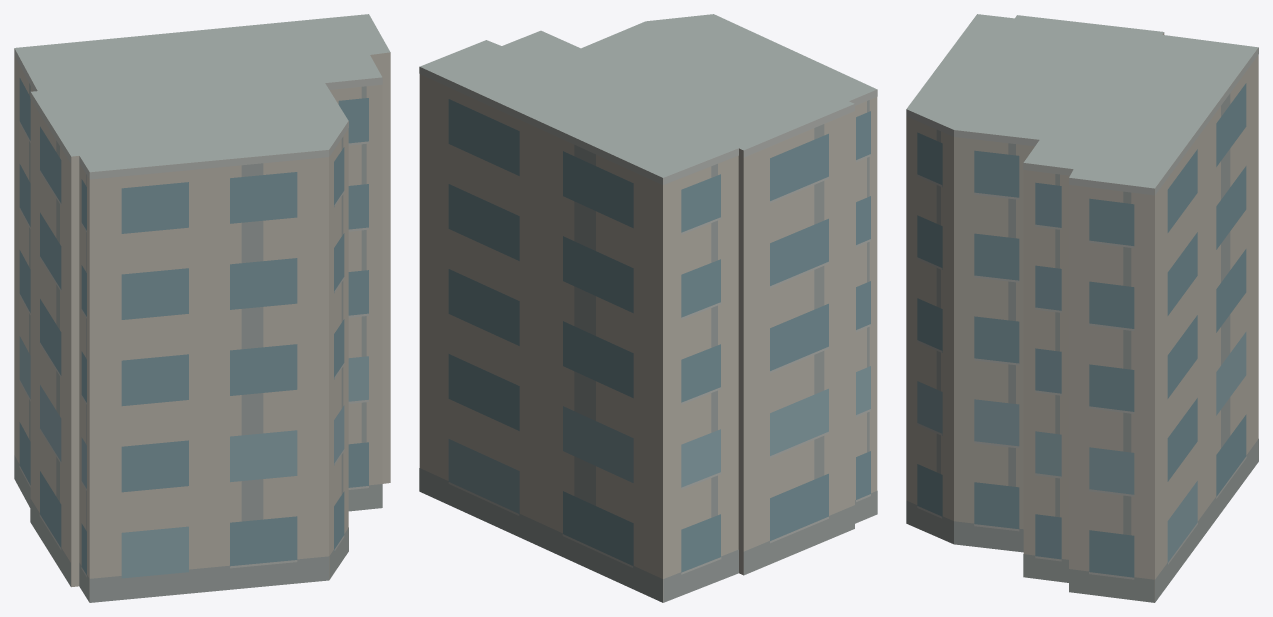
Rendered from survey-upis-33007999.glb.
The picture shows the model from 3 angles, left to right: view 1: azimuth 30°, elevation 25°; view 2: azimuth 150°, elevation 25°; view 3: azimuth 270°, elevation 25°; orthographic projection. The views are drawn at different scales.
Visible parts, largest first — view 1: survey-upis-33007999.tmp; view 2: survey-upis-33007999.tmp; view 3: survey-upis-33007999.tmp.
Boxes of the visible parts, bbox=[...] form: survey-upis-33007999.tmp: bbox=[14, 14, 390, 602]; survey-upis-33007999.tmp: bbox=[419, 14, 877, 602]; survey-upis-33007999.tmp: bbox=[906, 14, 1258, 602].
Bounding box in the file's own units: 13.01 × 14.4 × 11.11.
